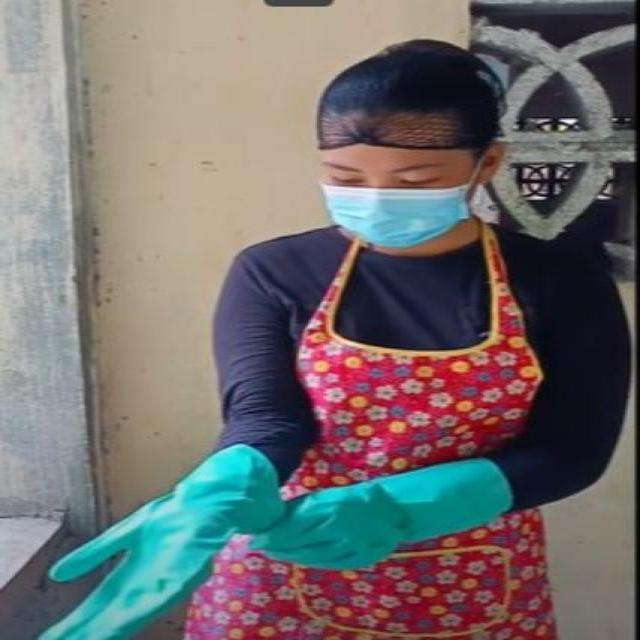gloved_hand: (40, 434, 283, 634), (265, 450, 564, 570)
